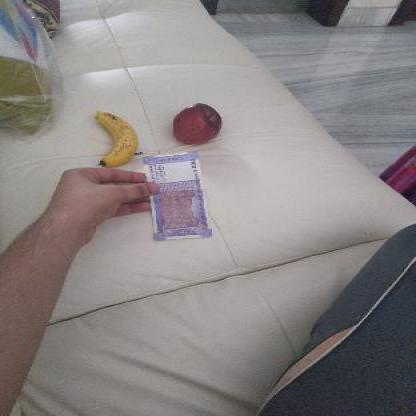New100Back: (141, 154, 211, 240)
